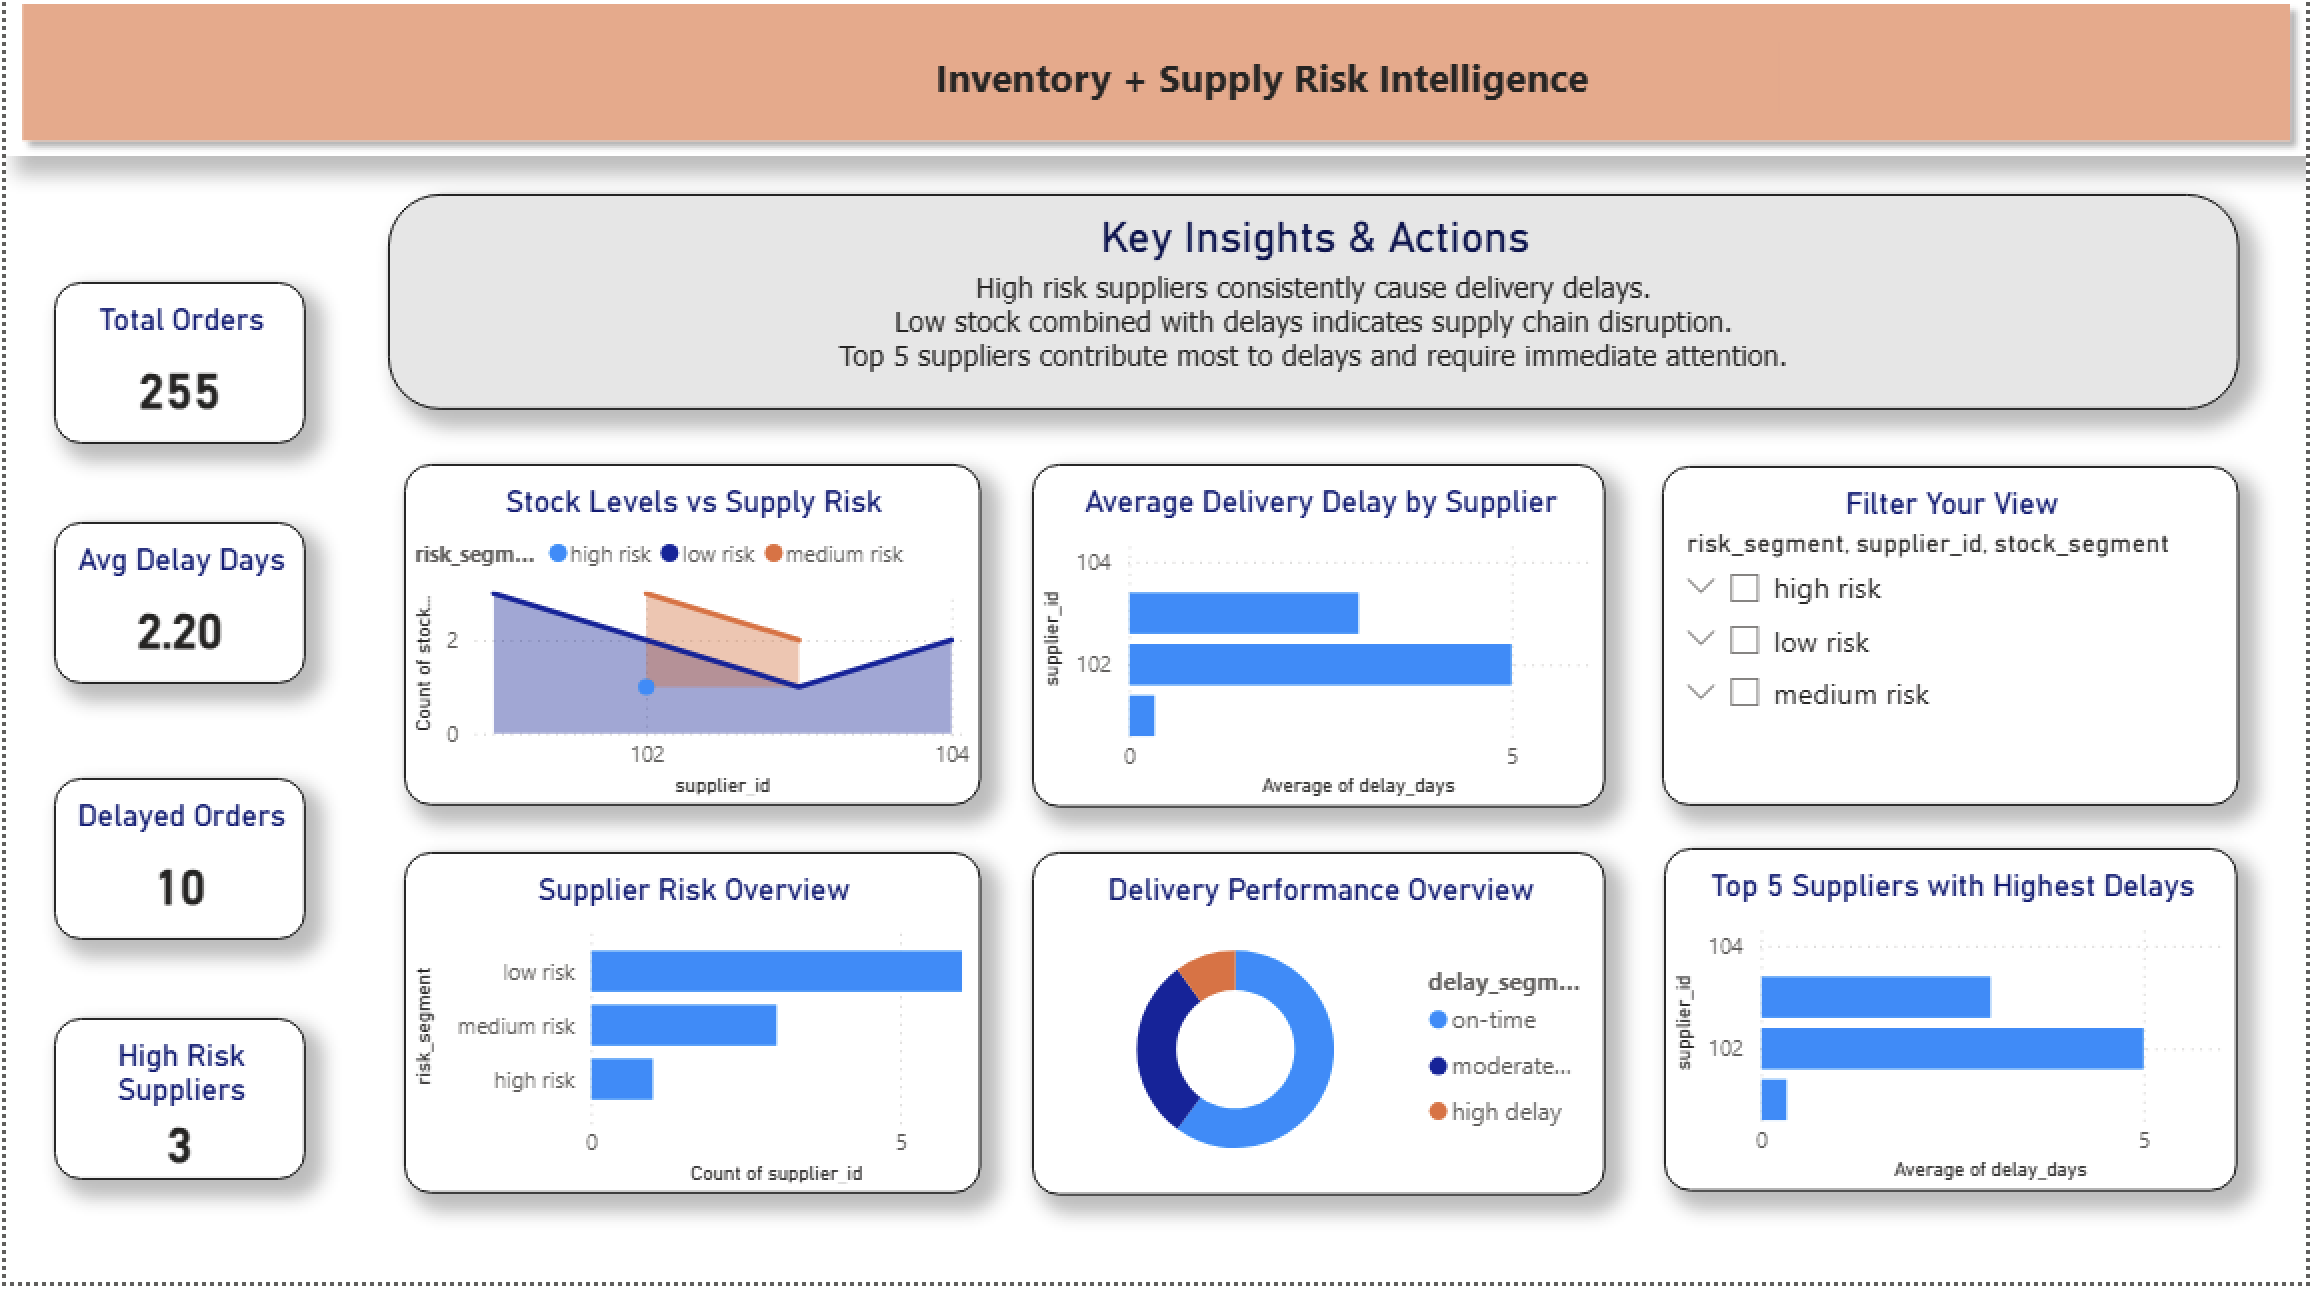

This screenshot's page, from the dashboard's own definition file:
{"tool":"powerbi","page":{"name":"Page 1","canvas":[1280,720],"ordinal":0},"visuals":[{"type":"shape","box":[0,0,1280,94.1],"z":0},{"type":"textbox","box":[382.5,29.7,604.1,40.9],"z":1000},{"type":"card","title":"Total Orders","fields":{"Values":["Sum(p_twoo.order_quantity)"]},"box":[27.2,163.4,140,90],"z":2000},{"type":"card","title":"Avg Delay Days","fields":{"Values":["Avg(p_twoo.delay_days)"]},"box":[27.2,297.1,140,90],"z":3000},{"type":"card","title":"Delayed Orders","fields":{"Values":["CountNonNull(p_twoo.delay_days)"]},"box":[26.7,439.6,140,90],"z":4000},{"type":"card","title":"High Risk Suppliers","fields":{"Values":["Count(p_twoo.risk_segment)"]},"box":[27.2,573.2,140,90],"z":5000},{"type":"barChart","title":"Supplier Risk Overview","fields":{"Y":["CountNonNull(p_twoo.supplier_id)"],"Category":["p_twoo.risk_segment"]},"box":[221.6,480.3,320.6,190],"z":6000},{"type":"barChart","title":"Average Delivery Delay by Supplier","fields":{"Category":["p_twoo.supplier_id"],"Y":["Avg(p_twoo.delay_days)"]},"box":[570.7,264.9,319.4,190.6],"z":7000},{"type":"stackedAreaChart","title":"Stock Levels vs Supply Risk","fields":{"Category":["p_twoo.supplier_id"],"Y":["CountNonNull(p_twoo.stock_segment)"],"Series":["p_twoo.risk_segment"]},"box":[221.6,264.9,320.6,190],"z":8000},{"type":"donutChart","title":"Delivery Performance Overview","fields":{"Y":["CountNonNull(p_twoo.supplier_id)"],"Category":["p_twoo.delay_segment"]},"box":[570.7,480.3,319.4,190.6],"z":9000},{"type":"slicer","title":"Filter Your View","fields":{"Values":["p_twoo.risk_segment","p_twoo.supplier_id","p_twoo.stock_segment"]},"box":[921,266.2,320.6,189.4],"z":10000},{"type":"barChart","title":"Top 5 Suppliers with Highest Delays","fields":{"Y":["Avg(p_twoo.delay_days)"],"Category":["p_twoo.supplier_id"]},"box":[922.2,479.1,319.4,190.6],"z":11000},{"type":"textbox","title":"Key Insights & Actions","box":[212.9,115.1,1029.9,120.1],"z":12000}]}

Visuals, with their boxes in screenshot pixels (x1, y1, x2, y2), scaled from the page's 1280x720 canvas onto the 2314x1294 screenshot:
shape: x1=0, y1=0, x2=2313, y2=169
textbox: x1=691, y1=53, x2=1784, y2=127
"Total Orders" card: x1=49, y1=294, x2=302, y2=455
"Avg Delay Days" card: x1=49, y1=534, x2=302, y2=696
"Delayed Orders" card: x1=48, y1=790, x2=301, y2=952
"High Risk Suppliers" card: x1=49, y1=1030, x2=302, y2=1192
"Supplier Risk Overview" barChart: x1=401, y1=863, x2=980, y2=1205
"Average Delivery Delay by Supplier" barChart: x1=1032, y1=476, x2=1609, y2=819
"Stock Levels vs Supply Risk" stackedAreaChart: x1=401, y1=476, x2=980, y2=818
"Delivery Performance Overview" donutChart: x1=1032, y1=863, x2=1609, y2=1206
"Filter Your View" slicer: x1=1665, y1=478, x2=2245, y2=819
"Top 5 Suppliers with Highest Delays" barChart: x1=1667, y1=861, x2=2245, y2=1204
"Key Insights & Actions" textbox: x1=385, y1=207, x2=2247, y2=423
